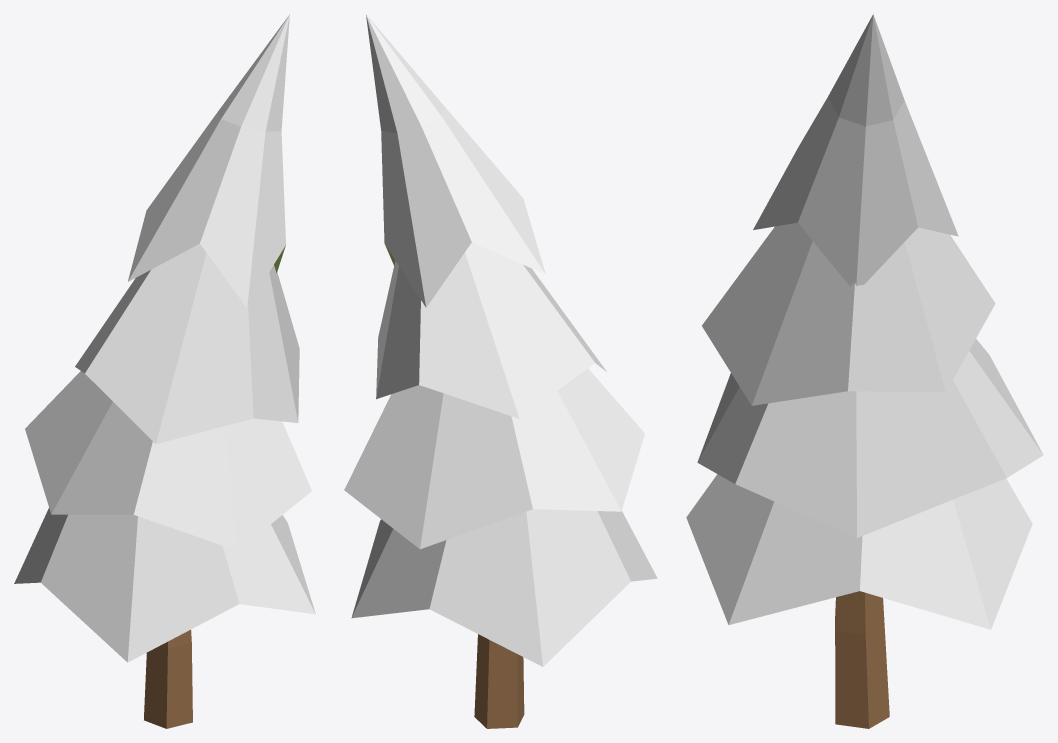
The model's file is Pine_Tree_m_Snow_BT_05.fbx.
3 renders of one model, left to right at view 1: azimuth 30°, elevation 25°; view 2: azimuth 150°, elevation 25°; view 3: azimuth 270°, elevation 25°, orthographic. The views are drawn at different scales.
Visible parts, largest first — view 1: Pine_Tree_m_Snow_BT_05; view 2: Pine_Tree_m_Snow_BT_05; view 3: Pine_Tree_m_Snow_BT_05.
Part boxes in pixels (<box>): Pine_Tree_m_Snow_BT_05: <box>14,14,315,728</box>; Pine_Tree_m_Snow_BT_05: <box>344,14,657,728</box>; Pine_Tree_m_Snow_BT_05: <box>686,14,1043,728</box>.
Bounding box in the file's own units: 423 × 1059 × 443.
